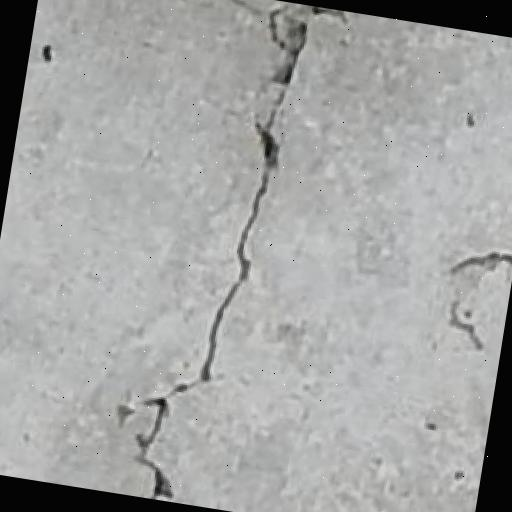spalling: (115, 0, 329, 499)
